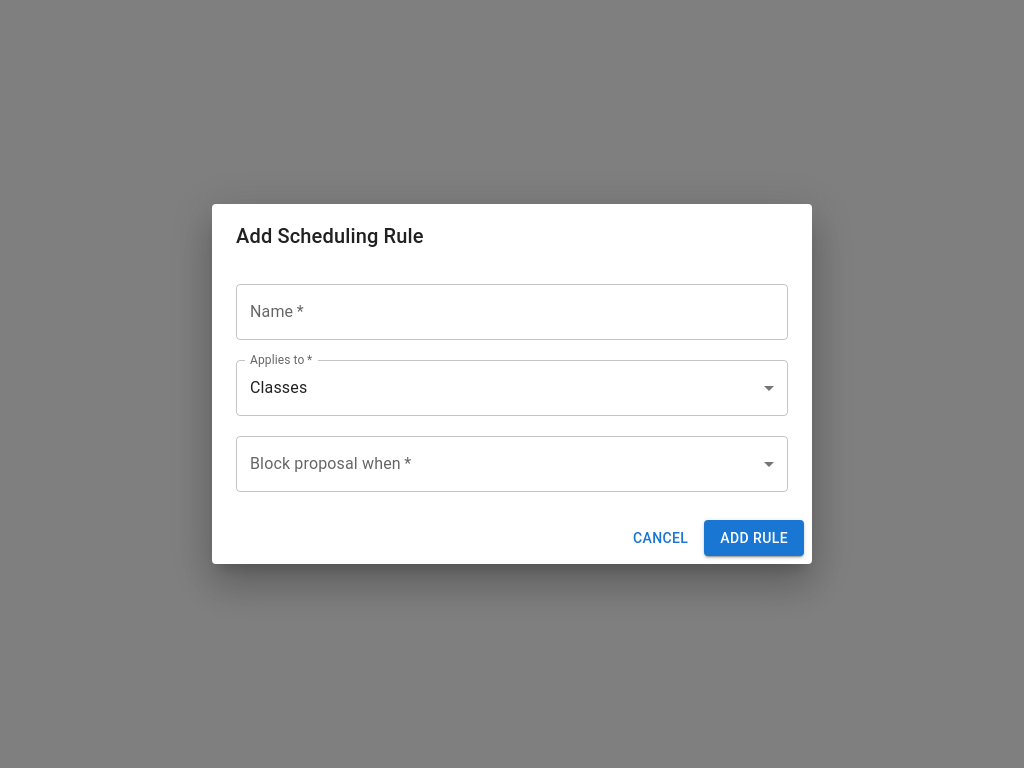
Scenario: AddConstraintDialog › renders a limit field when gap_limit is selected
Press the mouse on the dropdown named "block proposal when" at [512, 464], box [236,436,788,492]
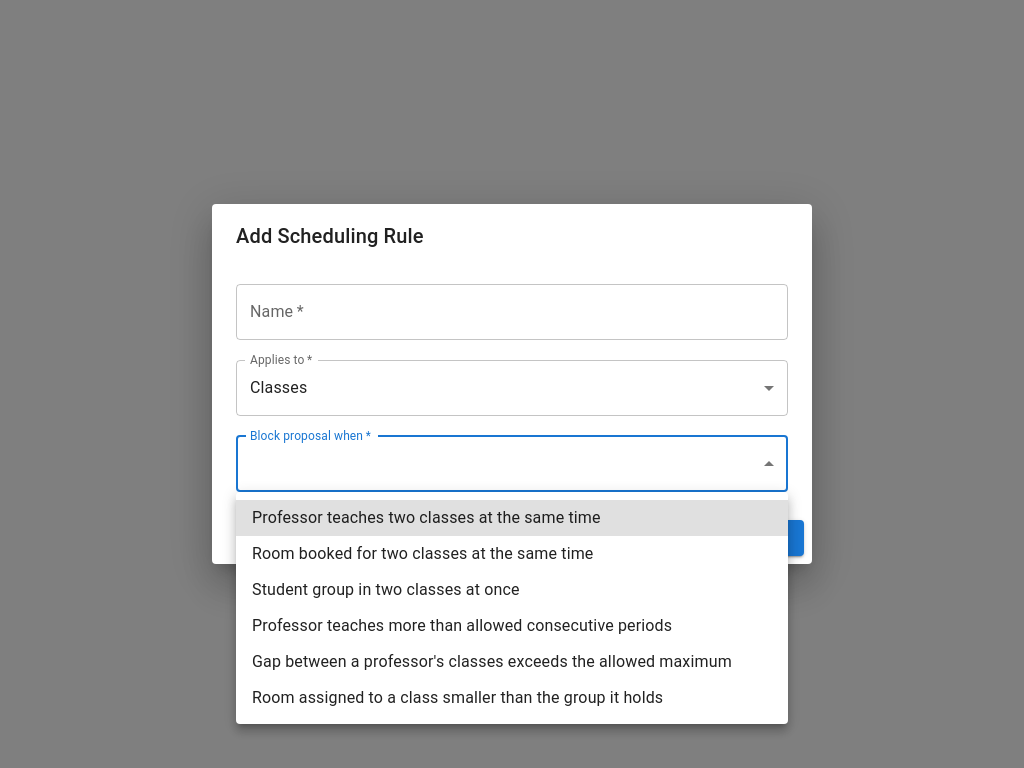
Expected: the option "exceeds the allowed maximum" is shown
Click the option "exceeds the allowed maximum" at [492, 662], box [252,652,732,671]
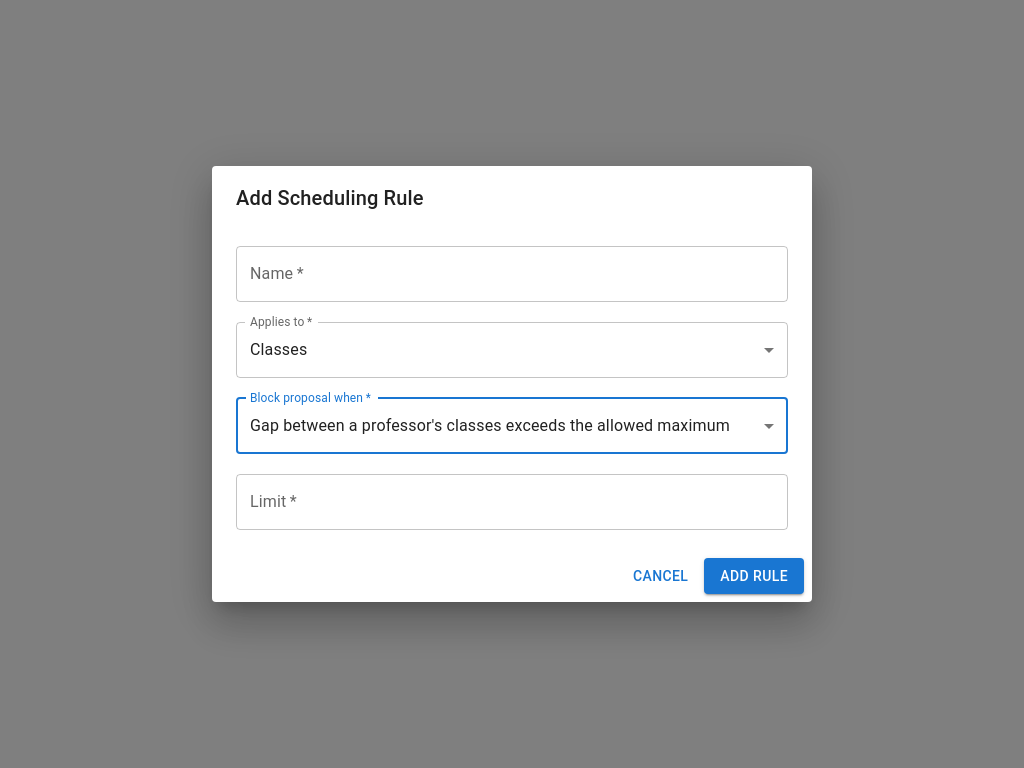
Expected: the list is gone
Expected: the number field labelled "Limit *" is shown, [236,474,788,530]
